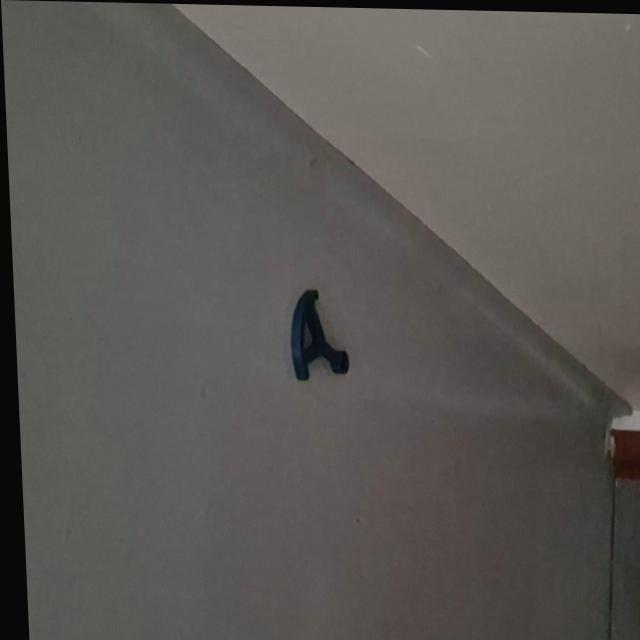haptic: (286, 287, 350, 383)
